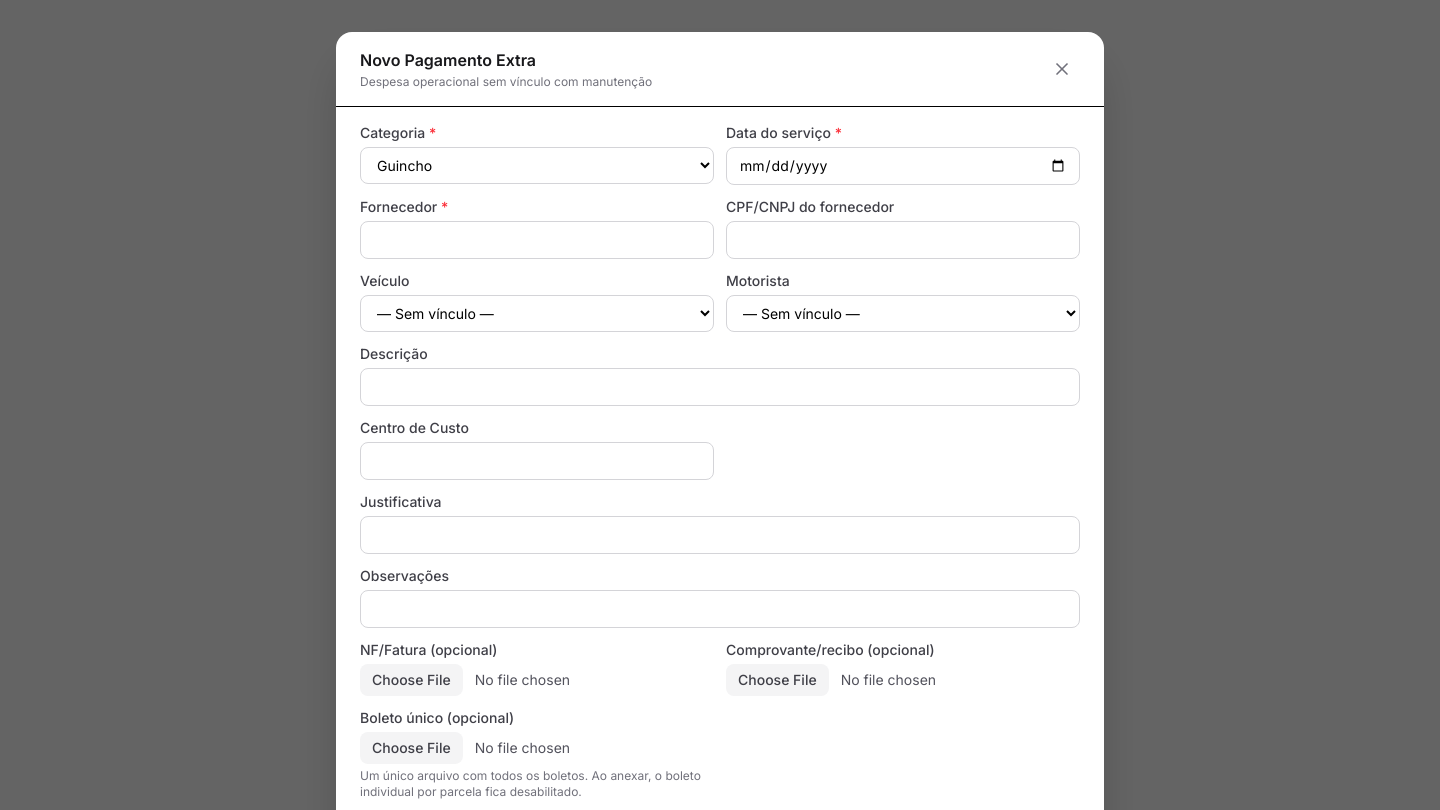
Test case: ExtraPaymentFormModal › selecionar veículo com motorista vinculado preenche o motorista
The image size is (1440, 810).
Select "ABC1D23" in the dropdown below "Veículo" at (537, 314), box [360,295,714,332]
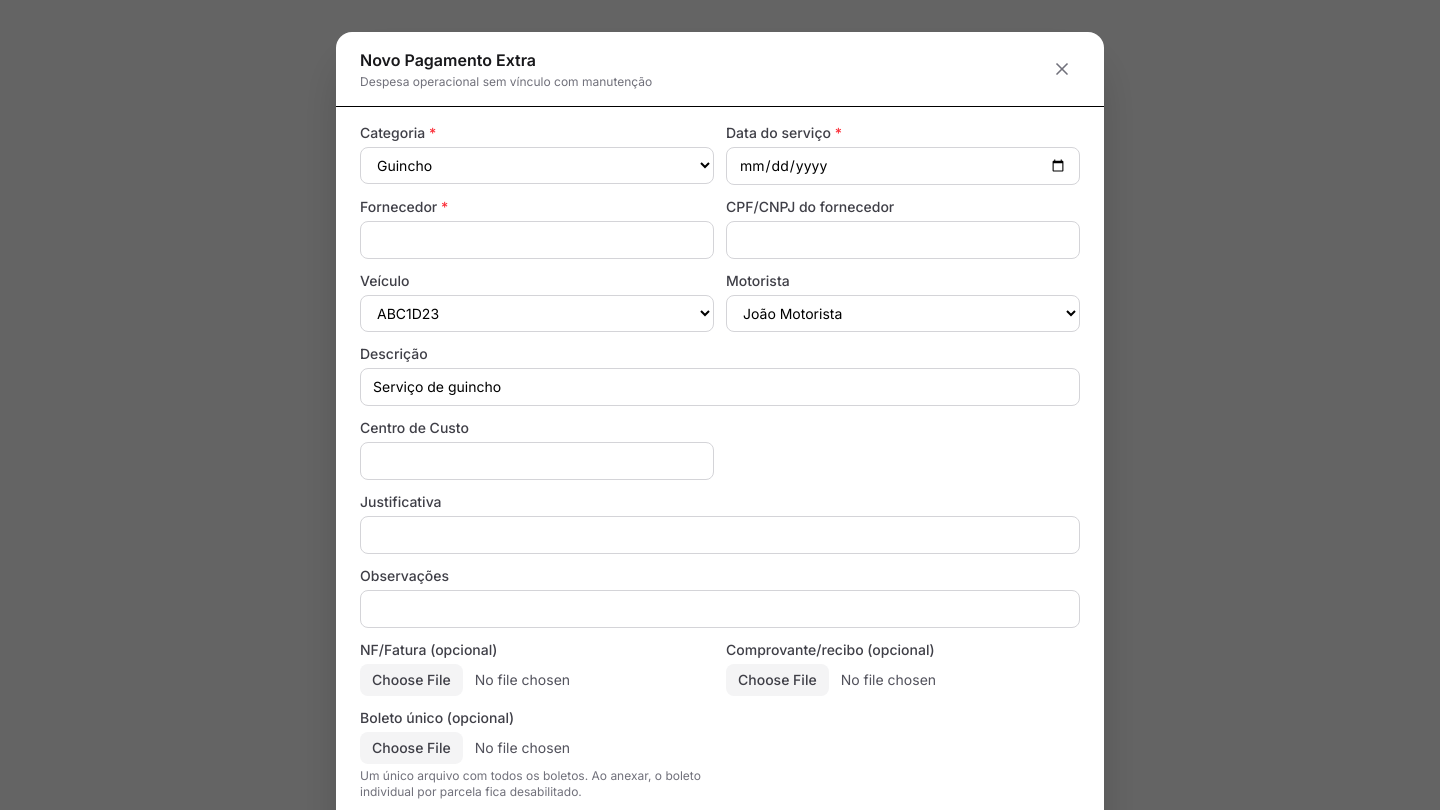
Now the dropdown below "Motorista" shows "João Motorista", box [726,295,1080,332]
